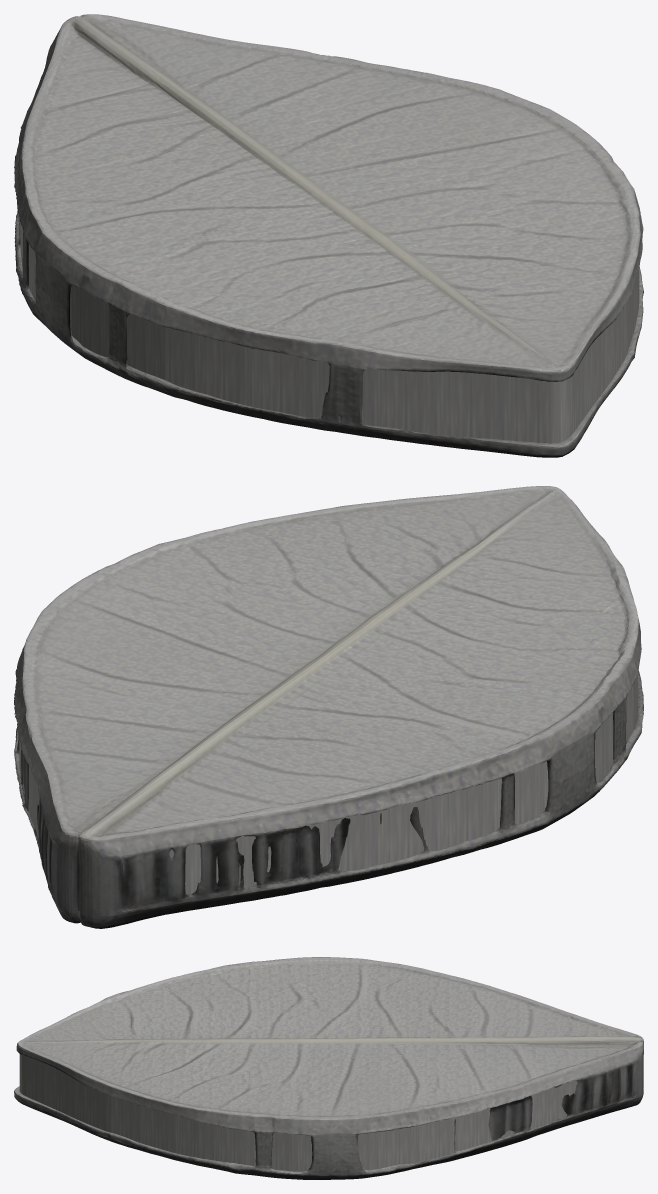
3 renders of one model, top to bottom at view 1: azimuth 30°, elevation 25°; view 2: azimuth 150°, elevation 25°; view 3: azimuth 270°, elevation 25°, orthographic. The views are drawn at different scales.
Visible parts, largest first — view 1: world, Local backing continuity patch; view 2: world, Local backing continuity patch; view 3: world, Local backing continuity patch.
Part boxes in pixels (x1,y1,x2,y2): world: (14,14,643,457); Local backing continuity patch: (20,221,639,443); world: (14,486,643,928); Local backing continuity patch: (19,676,637,912); world: (14,957,643,1179); Local backing continuity patch: (19,1054,577,1171).
Bounding box in the file's own units: 0.6331 × 0.1076 × 1.
Materials: 1 (1 with a texture image).
